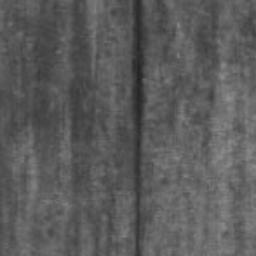Scratches: (132, 0, 148, 256)
